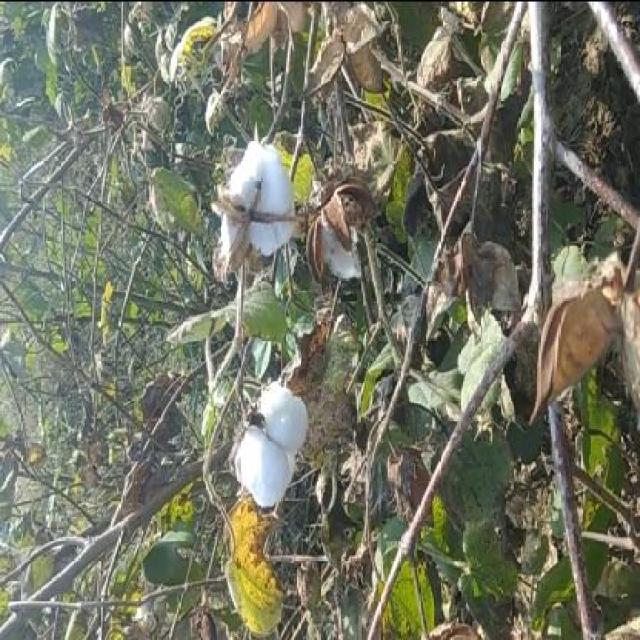cotton_ready: (211, 106, 314, 291), (227, 361, 321, 527)
